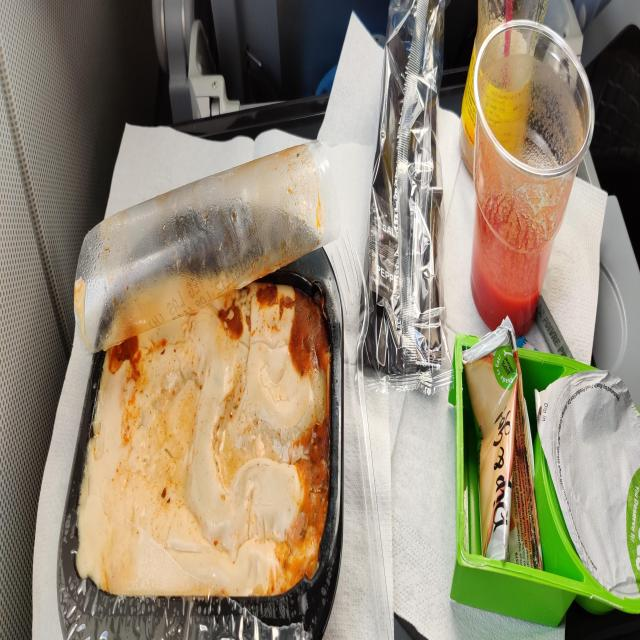litter: (452, 327, 638, 623), (76, 149, 339, 351), (472, 18, 590, 334), (357, 5, 444, 369)
